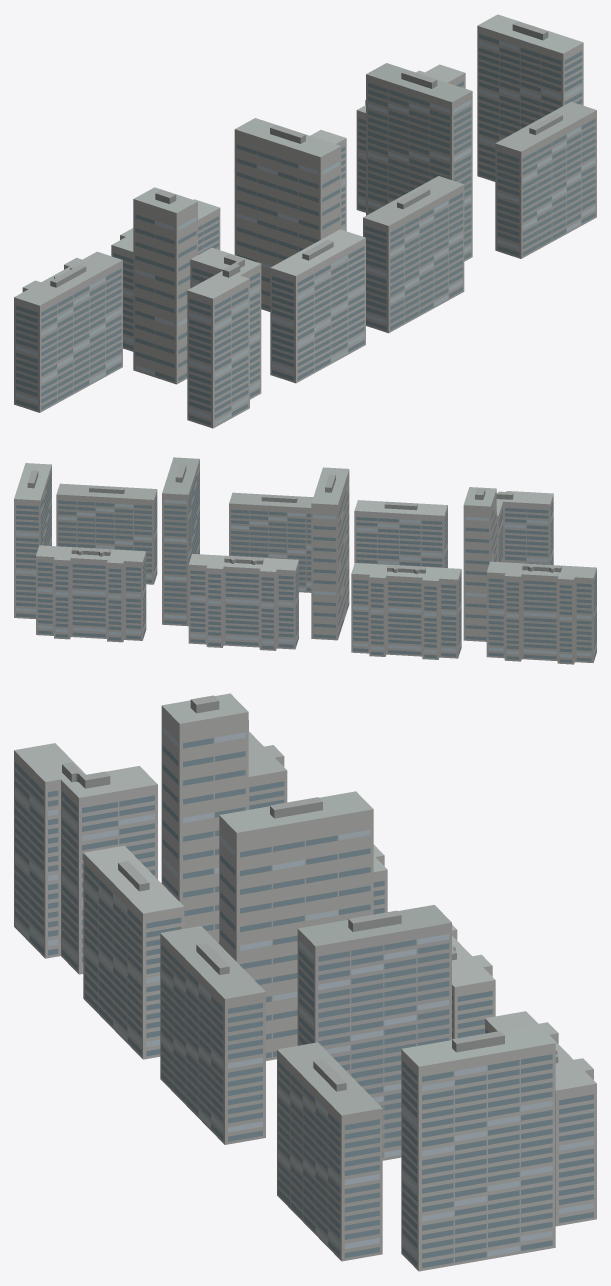
File: apt-a13592605.glb
3 renders of one model, top to bottom at view 1: azimuth 30°, elevation 25°; view 2: azimuth 150°, elevation 25°; view 3: azimuth 270°, elevation 25°, orthographic. The views are drawn at different scales.
Visible parts, largest first — view 1: apt-a13592605; view 2: apt-a13592605; view 3: apt-a13592605.
Part boxes in pixels (x1,y1,x2,y2): apt-a13592605: (14, 14, 596, 428); apt-a13592605: (14, 457, 596, 664); apt-a13592605: (14, 693, 596, 1271).
Bounding box in the file's own units: 258 × 68 × 149.
